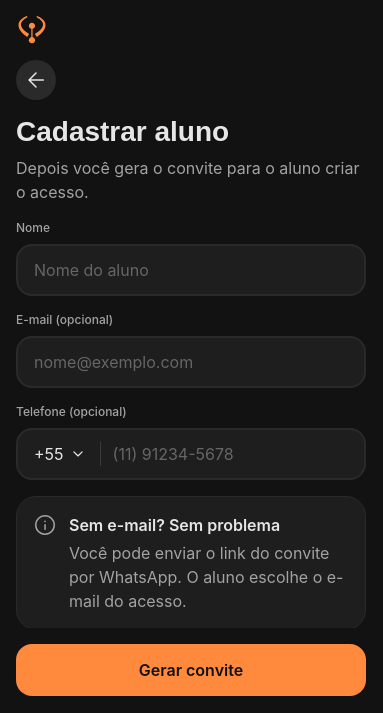
Test: Cadastrar aluno (regras 46, 57 e 109) › nome vazio, e-mail inválido e telefone incompleto: erros no campo, sem gravar
Type "rafael@exemplo" into the field labelled "E-mail (opcional)".
click(191, 362); type("rafael@exemplo")  # box [34,338,348,386]
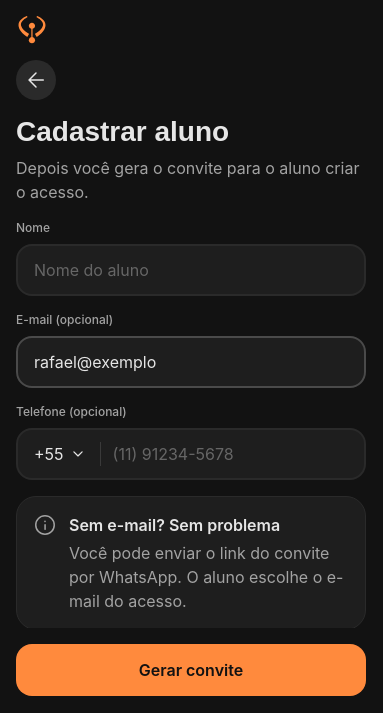
Type "3198765" into the field labelled "Telefone (opcional)".
click(230, 454); type("3198765")  # box [113,430,348,478]
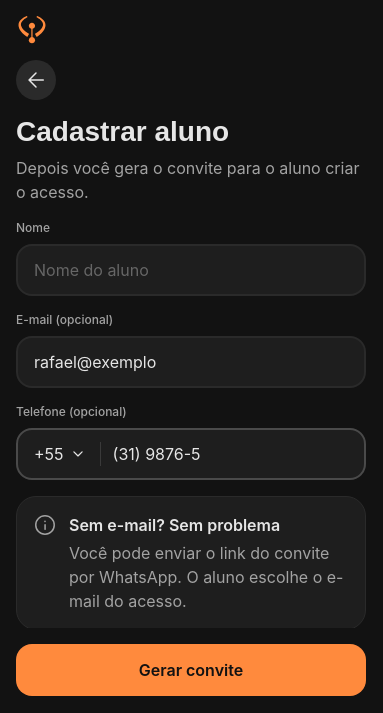
Click the button "Gerar convite".
click(191, 670)  # box [16,644,366,696]
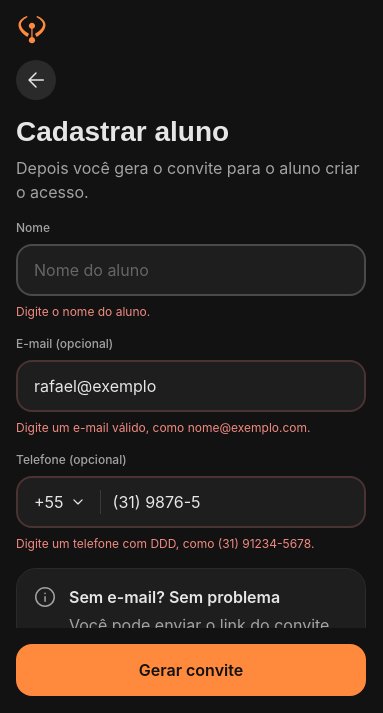
Result: the text "Digite o nome do aluno." is shown at [16,304,150,319]
Result: the text "Digite um e-mail válido, como nome@exemplo.com." is shown at [16,420,310,435]
Result: the text "Digite um telefone com DDD, como (31) 91234-5678." is shown at [16,536,366,552]
